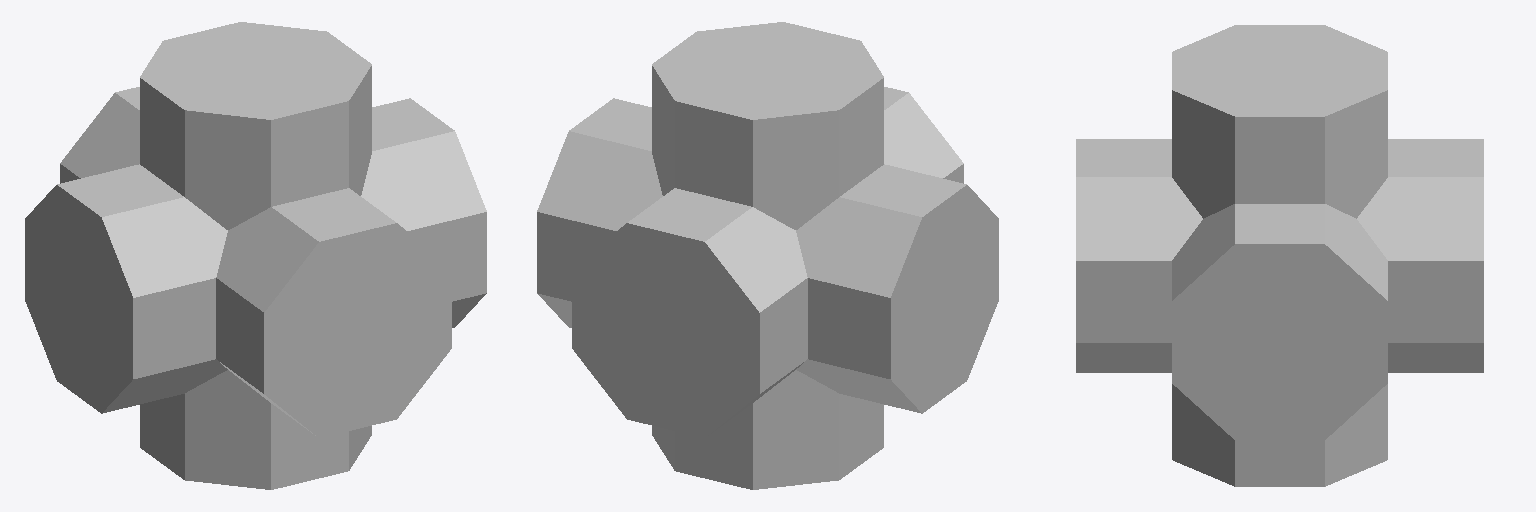
Rendered from pcity_nodes_concrete_pillar_cross_junction.obj.
3 renders of one model, left to right at view 1: azimuth 30°, elevation 25°; view 2: azimuth 150°, elevation 25°; view 3: azimuth 270°, elevation 25°, orthographic.
Visible parts, largest first — view 1: Cylinder; view 2: Cylinder; view 3: Cylinder.
Part boxes in pixels (x1,y1,x2,y2): Cylinder: (25,22,486,489); Cylinder: (537,22,998,489); Cylinder: (1076,25,1483,486).
Size of the model in its own units: 1 by 1 by 1.